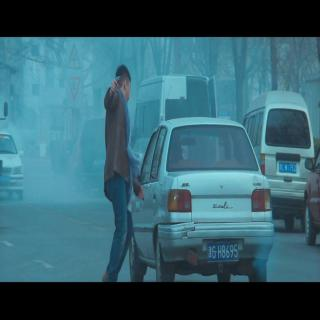gun: (110, 74, 121, 95)
